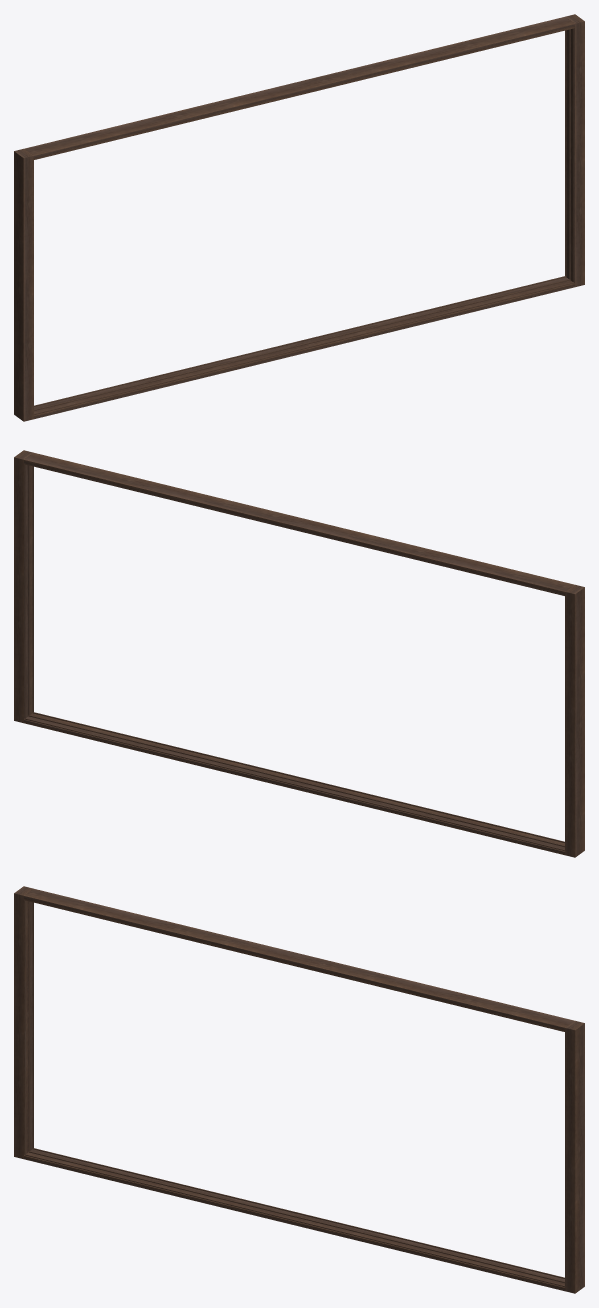
The model's file is windowflame_d.fbx.
The picture shows the model from 3 angles, top to bottom: view 1: azimuth 30°, elevation 25°; view 2: azimuth 150°, elevation 25°; view 3: azimuth 330°, elevation 25°; orthographic projection.
Parts seen in each view (by area): view 1: windowflame_d; view 2: windowflame_d; view 3: windowflame_d.
Part boxes in pixels (box(x1,y1,x2,y2)): windowflame_d: box(14, 14, 584, 421); windowflame_d: box(14, 450, 584, 857); windowflame_d: box(14, 886, 584, 1293).
Size of the model in its own units: 325 by 146 by 9.83.
